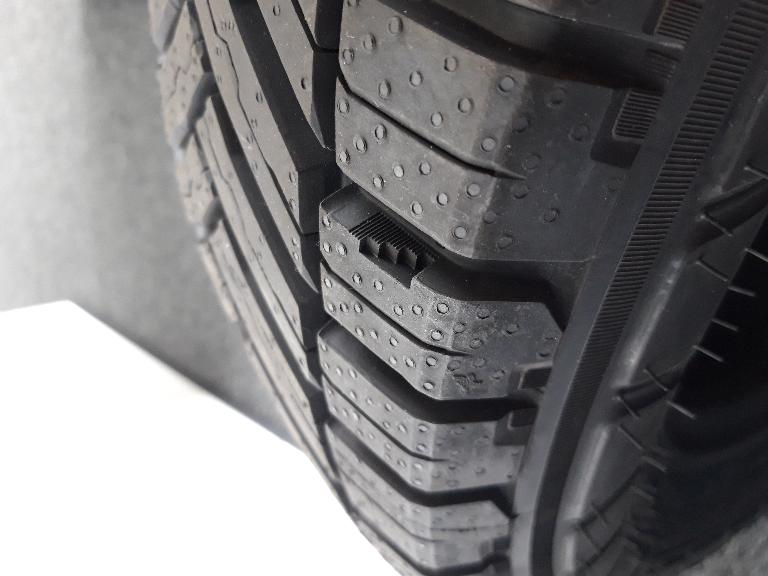temoin:100: (347, 211, 441, 293)
